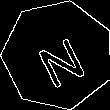N_NW: (28, 24, 88, 87)
